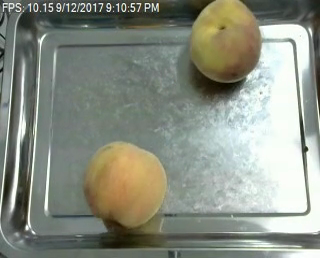Peach: (83, 140, 167, 228), (188, 0, 262, 83)
